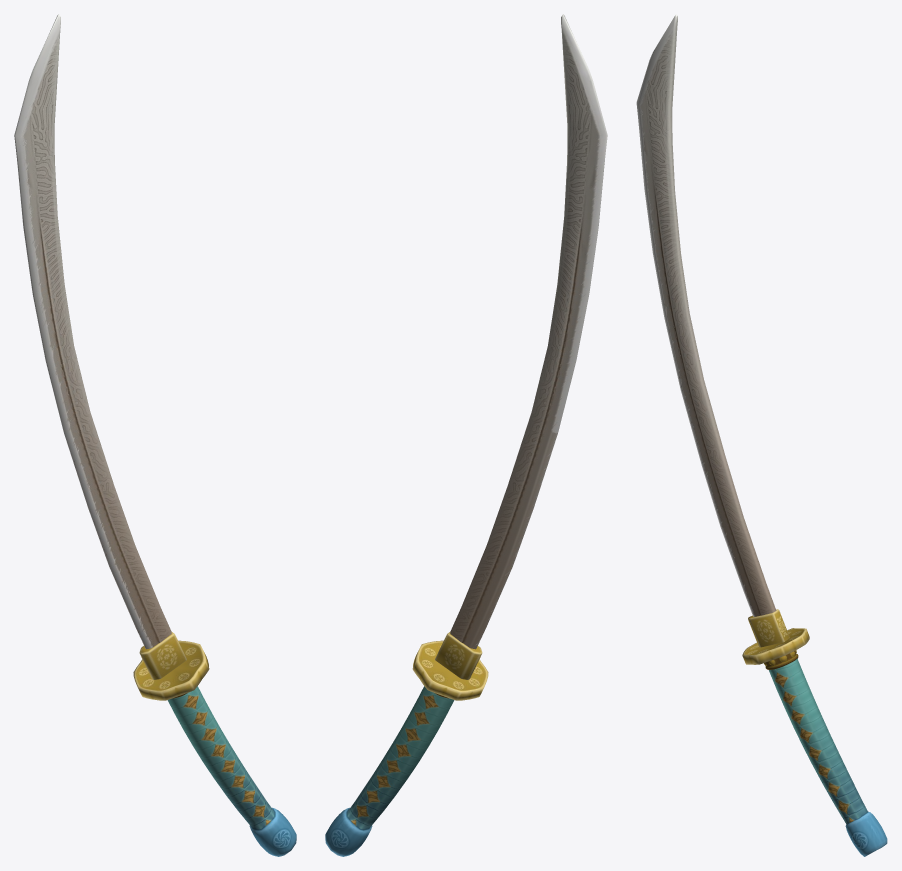
3 renders of one model, left to right at view 1: azimuth 30°, elevation 25°; view 2: azimuth 150°, elevation 25°; view 3: azimuth 330°, elevation 25°, orthographic. The views are drawn at different scales.
Parts seen in each view (by area): view 1: sw7_common; view 2: sw7_common; view 3: sw7_common.
Boxes of the visible parts, <box> form: sw7_common: <box>14,14,296,856</box>; sw7_common: <box>325,14,607,856</box>; sw7_common: <box>636,14,887,856</box>.
Bounding box in the file's own units: 23.67 × 72.15 × 6.14.
Materials: 1 (1 with a texture image).
